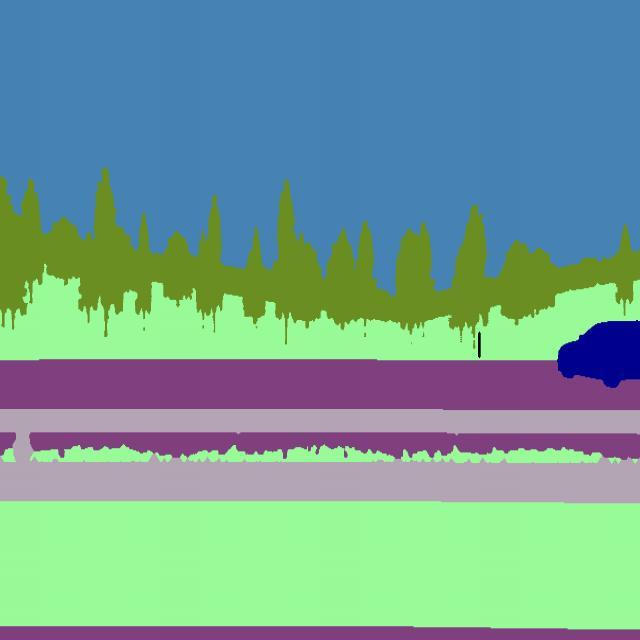safe: (554, 306, 640, 396)
